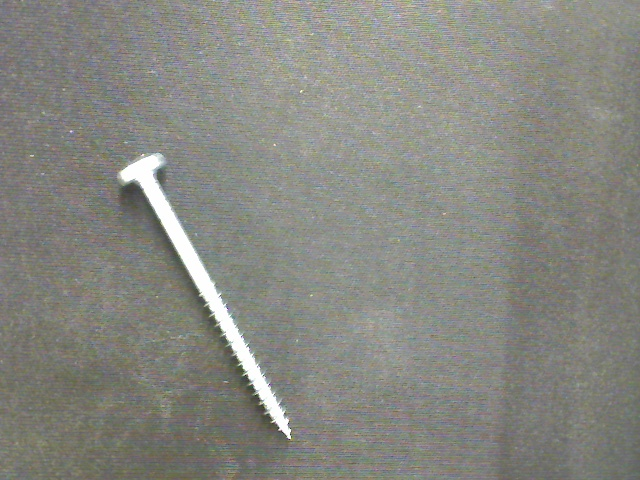Screw: (118, 152, 291, 441)
